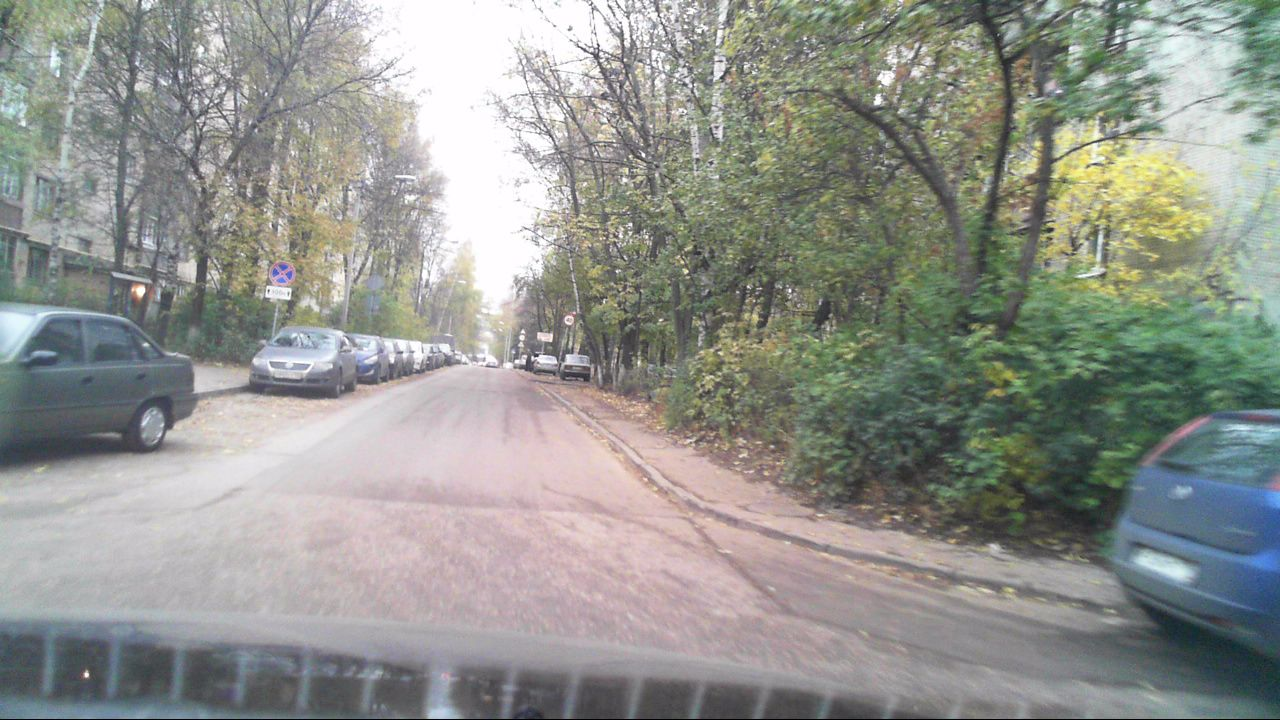No Parking: (269, 260, 296, 285)
